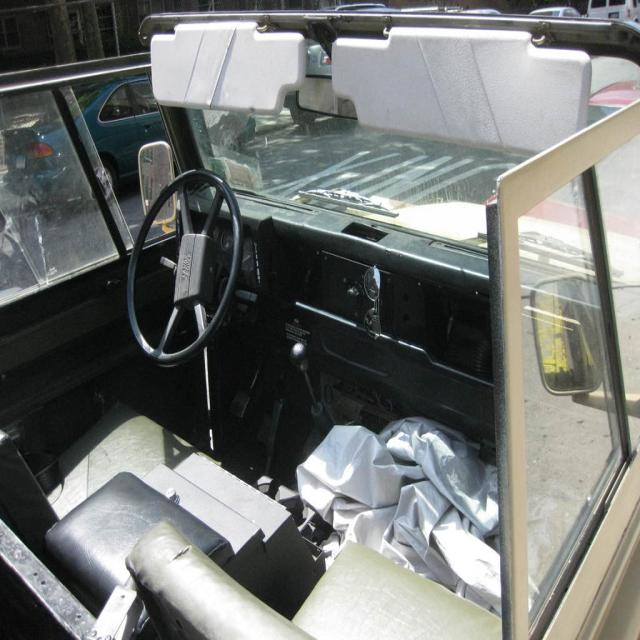car: (67, 0, 634, 638)
